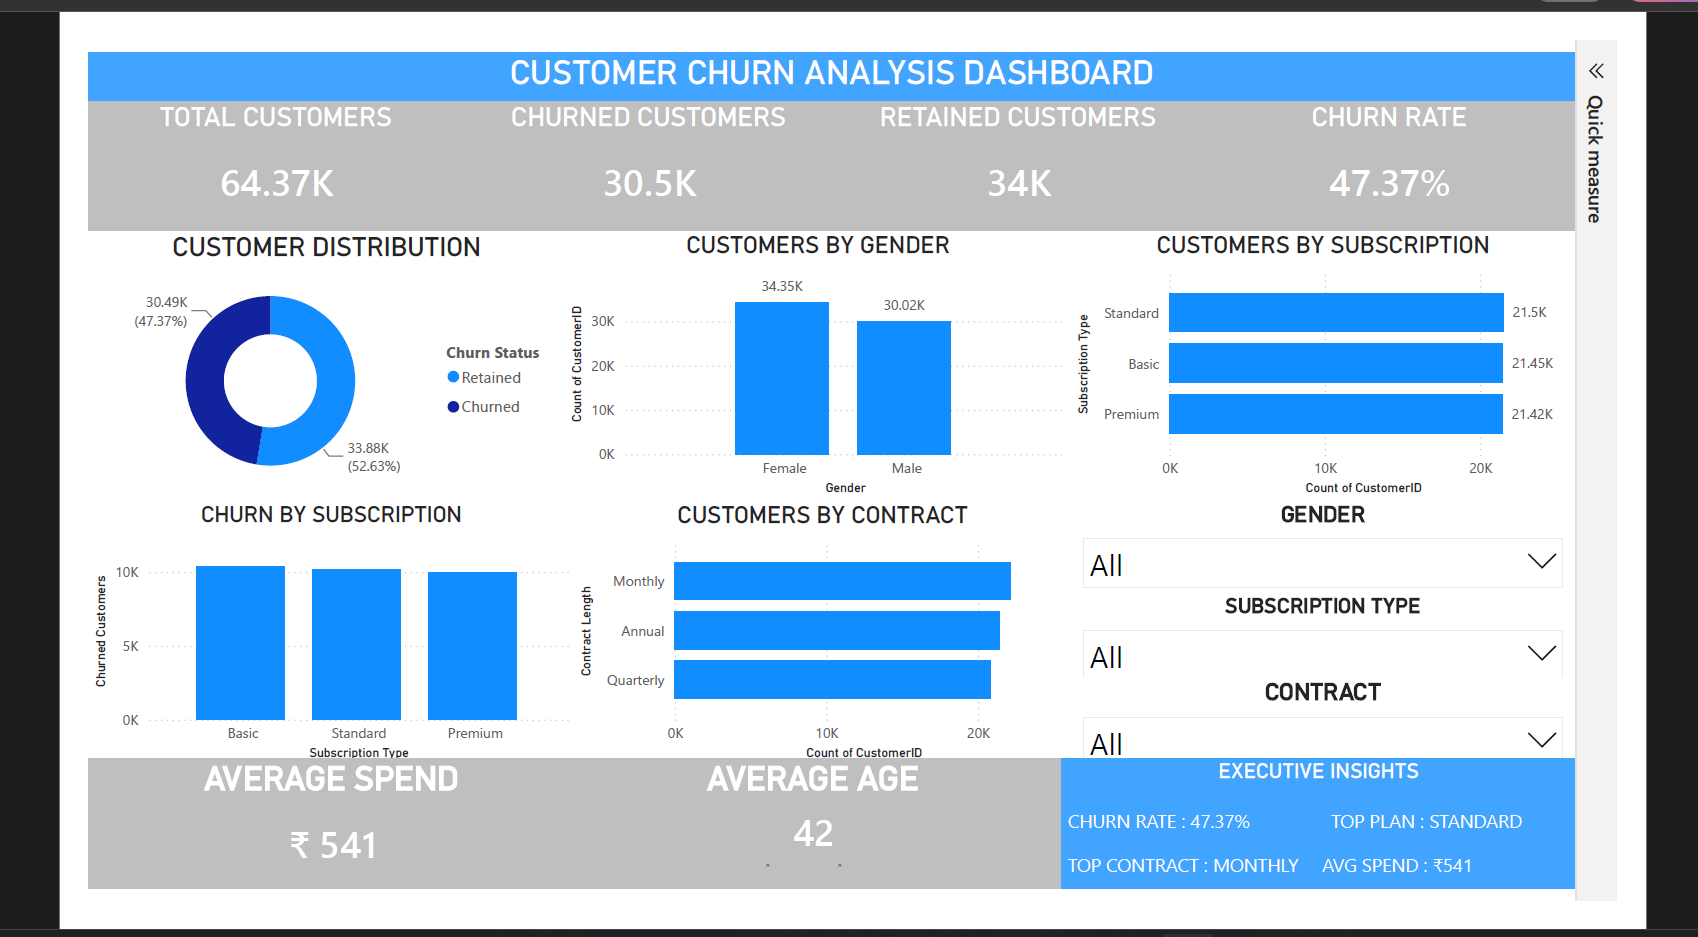

The page's visual inventory and layout, read from the dashboard file:
{"tool":"powerbi","page":{"name":"Page 1","canvas":[1280,720],"ordinal":0},"visuals":[{"type":"textbox","title":"CUSTOMER CHURN ANALYSIS DASHBOARD","box":[0,0,1280.3,41.2],"z":0},{"type":"cardVisual","title":"TOTAL CUSTOMERS","fields":{"Data":["CountNonNull(customer_churn_dataset-testing-master.CustomerID)"]},"box":[0,41.6,321.6,112.5],"z":1000},{"type":"cardVisual","title":"CHURNED CUSTOMERS ","fields":{"Data":["customer_churn_dataset-testing-master.Churned Customers"]},"box":[321.6,41.6,320.4,112.5],"z":2000},{"type":"cardVisual","title":"RETAINED CUSTOMERS","fields":{"Data":["customer_churn_dataset-testing-master.Retained Customers"]},"box":[639.5,41.6,320.4,112.5],"z":3000},{"type":"cardVisual","title":"CHURN RATE","fields":{"Data":["customer_churn_dataset-testing-master.Churn Rate"]},"box":[959.9,41.6,320.4,112.5],"z":4000},{"type":"donutChart","title":"CUSTOMER DISTRIBUTION","fields":{"Y":["CountNonNull(customer_churn_dataset-testing-master.CustomerID)"],"Category":["customer_churn_dataset-testing-master.Churn Status"]},"box":[0,154.1,409.6,232.3],"z":5000},{"type":"clusteredColumnChart","title":"CUSTOMERS BY GENDER","fields":{"Category":["customer_churn_dataset-testing-master.Gender"],"Y":["CountNonNull(customer_churn_dataset-testing-master.CustomerID)"]},"box":[409.6,154.1,436.6,232.3],"z":6000},{"type":"clusteredBarChart","title":"CUSTOMERS BY SUBSCRIPTION","fields":{"Category":["customer_churn_dataset-testing-master.Subscription Type"],"Y":["CountNonNull(customer_churn_dataset-testing-master.CustomerID)"]},"box":[846.2,154.1,434.1,232.3],"z":7000},{"type":"clusteredColumnChart","title":"CHURN BY SUBSCRIPTION","fields":{"Category":["customer_churn_dataset-testing-master.Subscription Type"],"Y":["customer_churn_dataset-testing-master.Churned Customers"]},"box":[0,386.4,418.2,227.4],"z":8000},{"type":"clusteredBarChart","title":"CUSTOMERS BY CONTRACT","fields":{"Category":["customer_churn_dataset-testing-master.Contract Length"],"Y":["CountNonNull(customer_churn_dataset-testing-master.CustomerID)"]},"box":[418.2,386.4,428,227.4],"z":9000},{"type":"slicer","title":"GENDER","fields":{"Values":["customer_churn_dataset-testing-master.Gender"]},"box":[846.2,386.4,434.1,79.5],"z":10000},{"type":"slicer","title":"SUBSCRIPTION TYPE","fields":{"Values":["customer_churn_dataset-testing-master.Subscription Type"]},"box":[846.2,465.9,434.1,73.4],"z":11000},{"type":"slicer","title":"CONTRACT ","fields":{"Values":["customer_churn_dataset-testing-master.Contract Length"]},"box":[846.2,539.3,434.1,74.6],"z":12000},{"type":"cardVisual","title":"AVERAGE SPEND","fields":{"Data":["Avg(customer_churn_dataset-testing-master.Total Spend)"]},"box":[0,607.7,418.2,112.5],"z":12001},{"type":"cardVisual","title":"AVERAGE AGE","fields":{"Data":["customer_churn_dataset-testing-master.Average Age"]},"box":[409.5,608.1,427.9,111.6],"z":12002},{"type":"textbox","title":"EXECUTIVE INSIGHTS","box":[837.6,607.7,442.7,112.5],"z":12003}]}

Visuals, with their boxes on the page's 1280x720 design canvas (x1, y1, x2, y2). These are canvas units, not pixel positions in the 1698x937 screenshot, which may show the page scaled, cropped or inside an application window:
"CUSTOMER CHURN ANALYSIS DASHBOARD" textbox: box=[0, 0, 1280, 41]
"TOTAL CUSTOMERS" cardVisual: box=[0, 42, 322, 154]
"CHURNED CUSTOMERS " cardVisual: box=[322, 42, 642, 154]
"RETAINED CUSTOMERS" cardVisual: box=[640, 42, 960, 154]
"CHURN RATE" cardVisual: box=[960, 42, 1280, 154]
"CUSTOMER DISTRIBUTION" donutChart: box=[0, 154, 410, 386]
"CUSTOMERS BY GENDER" clusteredColumnChart: box=[410, 154, 846, 386]
"CUSTOMERS BY SUBSCRIPTION" clusteredBarChart: box=[846, 154, 1280, 386]
"CHURN BY SUBSCRIPTION" clusteredColumnChart: box=[0, 386, 418, 614]
"CUSTOMERS BY CONTRACT" clusteredBarChart: box=[418, 386, 846, 614]
"GENDER" slicer: box=[846, 386, 1280, 466]
"SUBSCRIPTION TYPE" slicer: box=[846, 466, 1280, 539]
"CONTRACT " slicer: box=[846, 539, 1280, 614]
"AVERAGE SPEND" cardVisual: box=[0, 608, 418, 720]
"AVERAGE AGE" cardVisual: box=[410, 608, 837, 720]
"EXECUTIVE INSIGHTS" textbox: box=[838, 608, 1280, 720]
